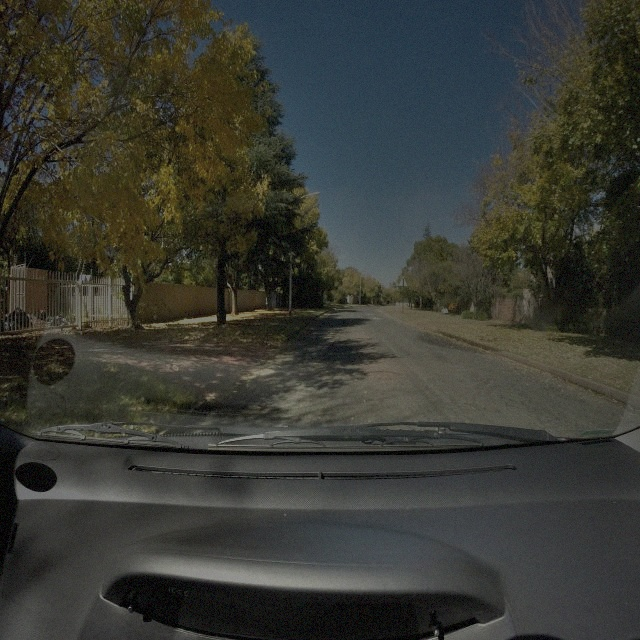pothole: (364, 368, 403, 384)
